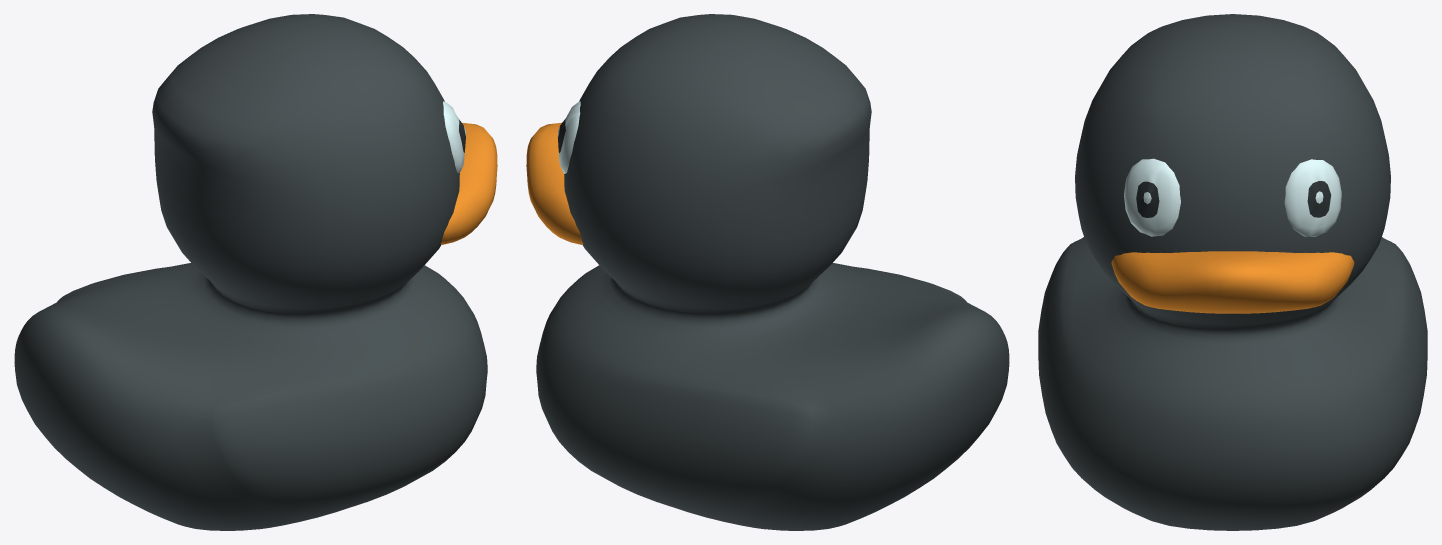
Rendered from Rubber Ducky Black.fbx.
3 views of the same model, side by side, from view 1: azimuth 30°, elevation 25°; view 2: azimuth 150°, elevation 25°; view 3: azimuth 270°, elevation 25° (orthographic). The views are drawn at different scales.
Visible parts, largest first — view 1: Rubber_Duck; view 2: Rubber_Duck; view 3: Rubber_Duck.
Part boxes in pixels (x1,y1,x2,y2): Rubber_Duck: (14,14,497,530); Rubber_Duck: (526,14,1009,530); Rubber_Duck: (1038,14,1427,530).
Bounding box in the file's own units: 8.53 × 8.27 × 6.1.
Materials: 1 (1 with a texture image).
